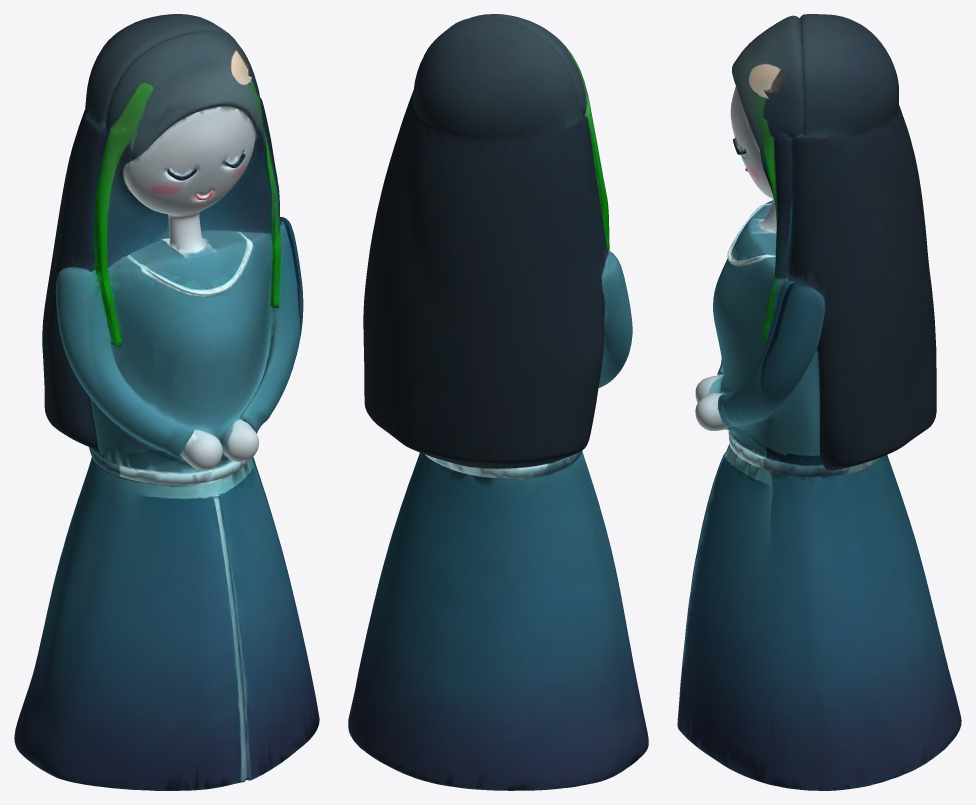
Rendered from mirelle.glb.
3 renders of one model, left to right at view 1: azimuth 30°, elevation 25°; view 2: azimuth 150°, elevation 25°; view 3: azimuth 270°, elevation 25°, orthographic.
Parts seen in each view (by area): view 1: model; view 2: model; view 3: model.
Part boxes in pixels (x1,y1,x2,y2): model: (14, 14, 319, 790); model: (348, 14, 648, 790); model: (677, 14, 961, 790).
Bounding box in the file's own units: 0.936 × 2.35 × 0.8608.
Materials: 1 (1 with a texture image).
